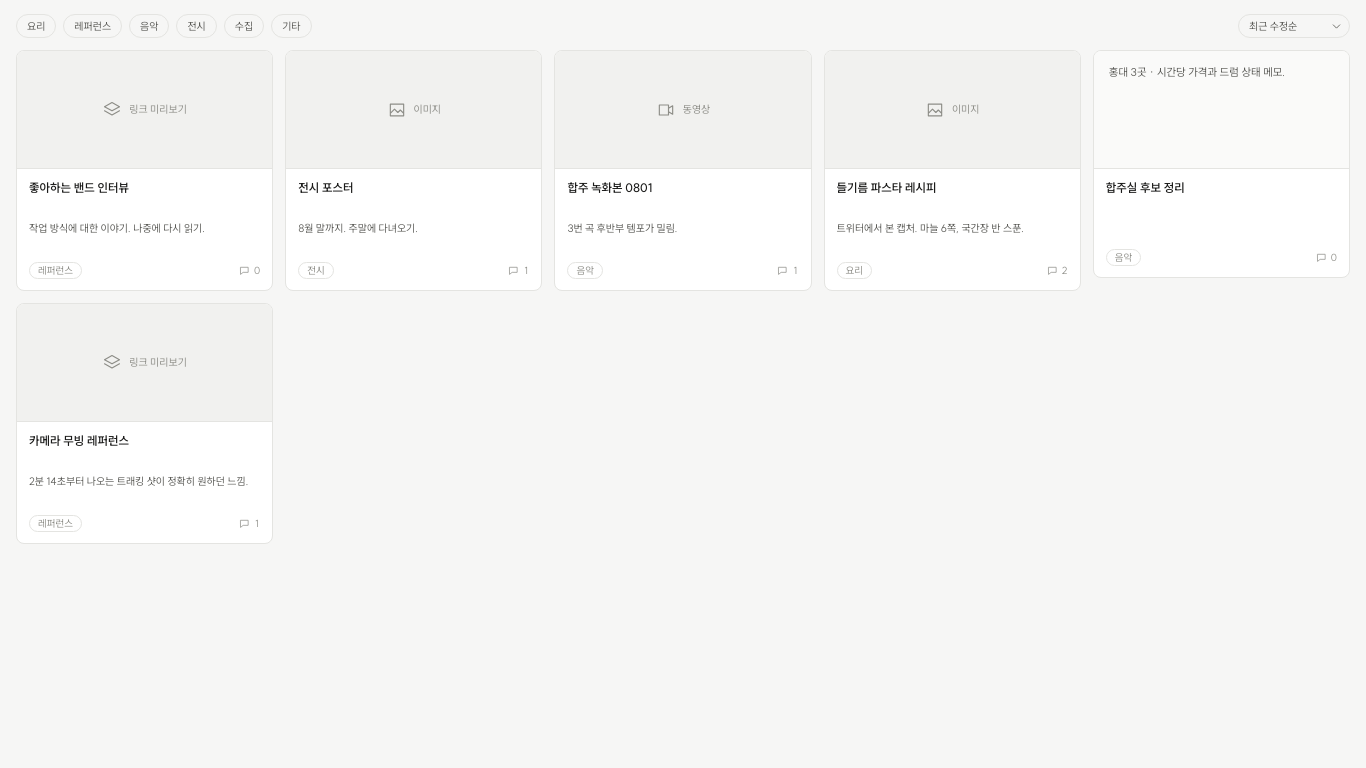
ScrapPage › distinguishes between no filter results and having no filter applied
What coordinates should you click on to do the following:
click the button "수집"
I would click on:
 (244, 26)
Its box is x1=224 y1=14 x2=264 y2=38.
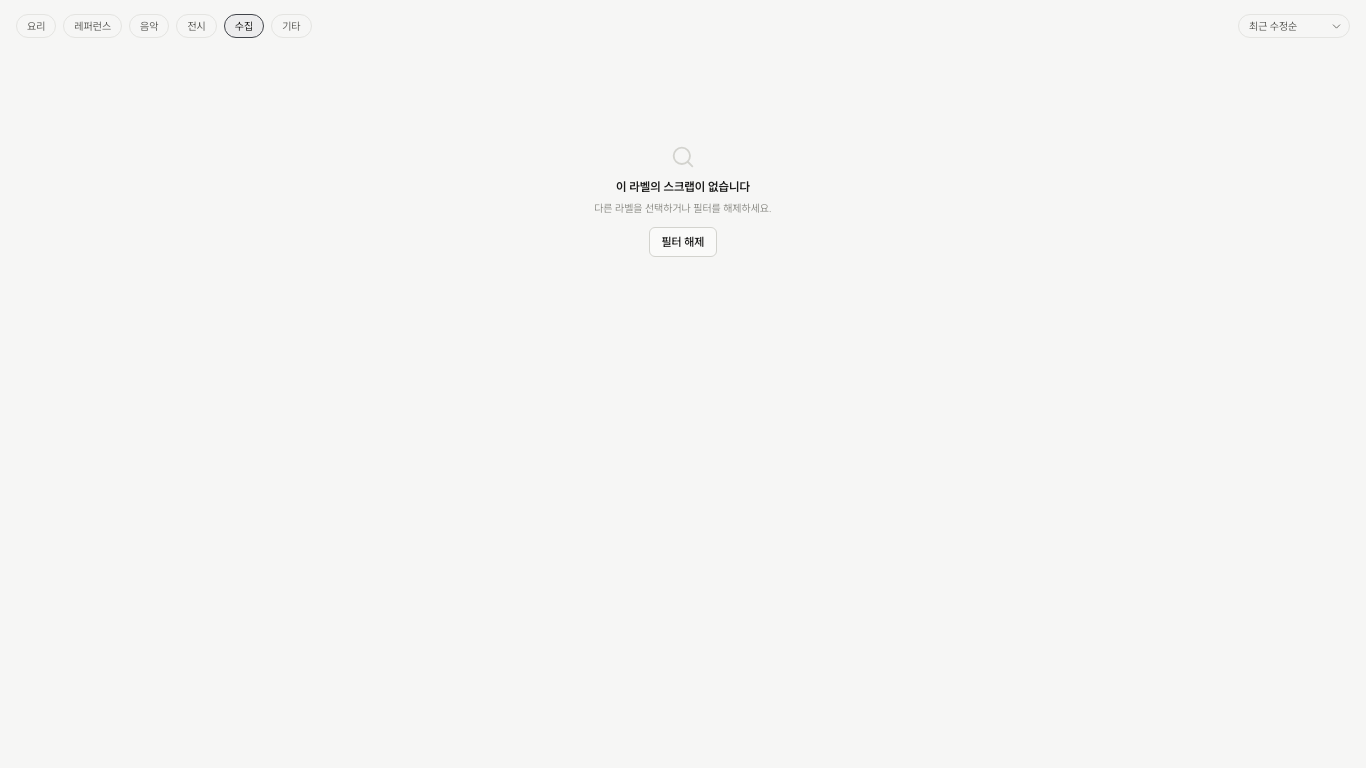
Check: the text "이 라벨의 스크랩이 없습니다" is shown, box x1=616 y1=179 x2=750 y2=194
What coordinates should you click on to do the following:
click the button "필터 해제"
I would click on:
 (683, 242)
Its box is x1=649 y1=227 x2=718 y2=257.
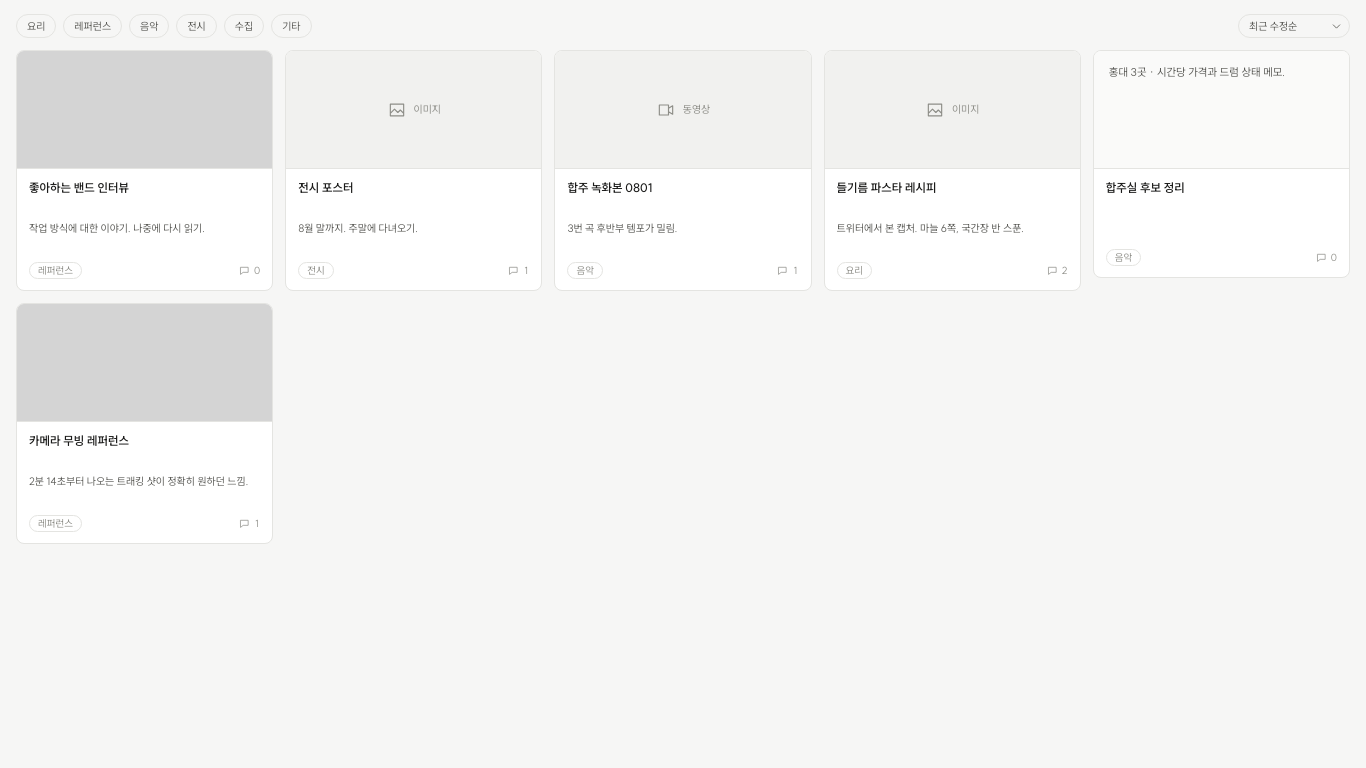
Check: the button "이미지 들기름 파스타 레시피 트위터에서 본 캡처. 마늘 6쪽, 국간장 반 스푼. 요리 2" is shown, box x1=824 y1=50 x2=1081 y2=291
